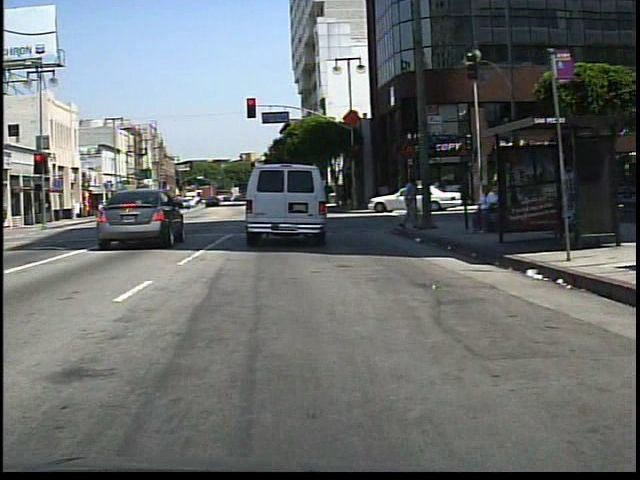person: (471, 182, 503, 237), (397, 173, 421, 233), (96, 193, 110, 219)
